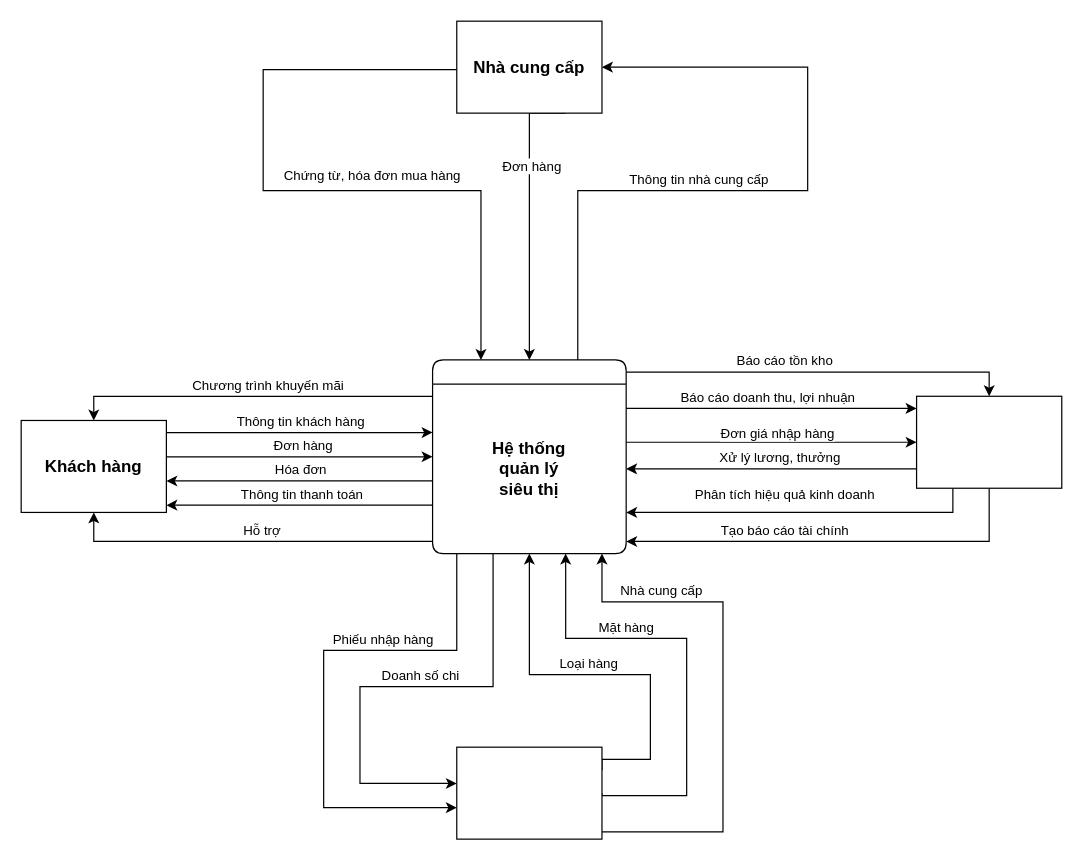
This 1083x863 diagram has some shape labels left out. The shapes that lost their labels are listed below. From the top down, each one's centre as x and y in pixels, then its label:
At pixel 988 441: "Bộ phận quản lý".
At pixel 529 792: "Bộ phận nhập hàng".
